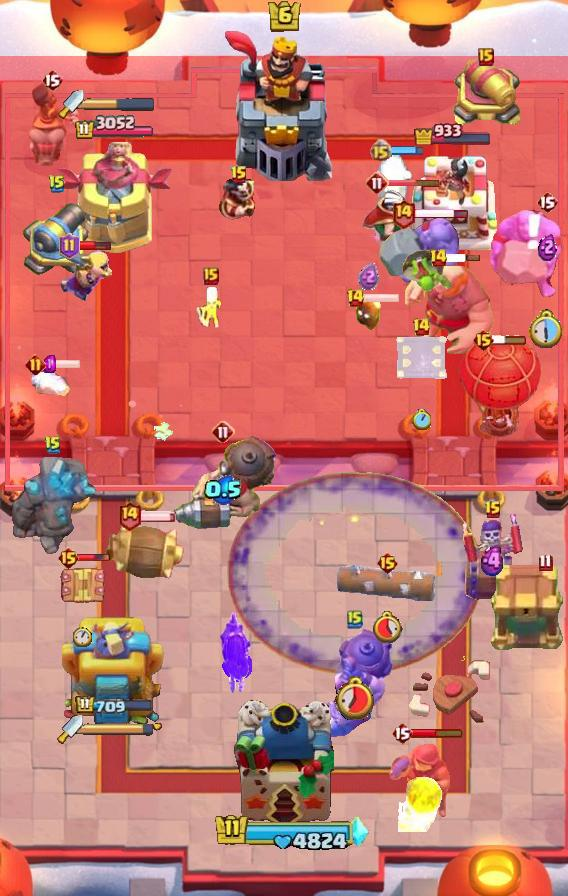archer-queen: (488, 208, 568, 302), (376, 216, 464, 296)
arrows: (60, 247, 112, 302)
balloon: (401, 254, 495, 356)
bar: (55, 142, 173, 256), (62, 611, 166, 731)
bar-level: (400, 247, 454, 295)
bat: (373, 153, 415, 201)
bomb: (490, 564, 568, 652)
bomber: (354, 294, 382, 332)
cannon-cart: (458, 336, 542, 438)
cannoneer-tower: (8, 456, 98, 558)
clock: (210, 812, 358, 854)
electro-spirit: (204, 475, 243, 505), (478, 545, 508, 577), (357, 263, 378, 290), (539, 232, 558, 261), (43, 355, 56, 373)
elite-barbarian: (21, 82, 83, 176)
elixir: (335, 676, 378, 721), (529, 309, 565, 349), (371, 610, 403, 643), (413, 409, 432, 431), (72, 625, 91, 646)
emote: (414, 207, 469, 220), (412, 727, 465, 739), (387, 177, 441, 187), (43, 358, 81, 370), (139, 510, 177, 522), (363, 292, 400, 304), (76, 240, 112, 252), (492, 334, 528, 346), (389, 145, 425, 156), (445, 253, 481, 263), (77, 553, 111, 563)
fireball: (387, 738, 453, 820)
goblin-ball: (216, 601, 252, 695)
goblin-brawler: (57, 563, 107, 609)
heal-spirit: (194, 287, 228, 329)
ice-spirit-evolution: (28, 369, 70, 399)
ice-spirit-evolution-symbol: (394, 332, 448, 382)
king-tower: (223, 31, 345, 181), (234, 700, 334, 826)
king-tower-bar: (84, 97, 156, 111), (83, 722, 155, 736)
lumberjack: (218, 176, 260, 224)
minion: (336, 565, 438, 601)
pad_2: (344, 816, 370, 848)
queen-tower: (407, 150, 499, 256)
rocket: (227, 472, 483, 676)
royal-recruit: (20, 197, 94, 283), (450, 56, 522, 130)
selected: (73, 115, 154, 141), (413, 119, 493, 144), (74, 695, 154, 716)
skeleton-king: (359, 188, 433, 256)
skeleton-king-bar: (462, 511, 524, 603)
text: (392, 198, 417, 229), (117, 501, 142, 532), (365, 171, 389, 195), (211, 420, 235, 444), (473, 328, 496, 352), (56, 546, 79, 570), (377, 551, 400, 575), (59, 233, 80, 259), (368, 139, 391, 162), (41, 68, 63, 92), (536, 190, 558, 214), (391, 721, 413, 745), (25, 353, 46, 375), (429, 248, 448, 268), (347, 288, 366, 308), (413, 317, 432, 337), (230, 165, 248, 185), (48, 174, 66, 194), (44, 435, 62, 455), (484, 500, 502, 520), (347, 609, 363, 629), (478, 48, 494, 66), (203, 267, 219, 285), (539, 553, 554, 571)
the-log: (103, 519, 187, 581)
valkyrie: (398, 776, 446, 832)
wizard: (167, 434, 279, 532), (314, 627, 396, 741)
